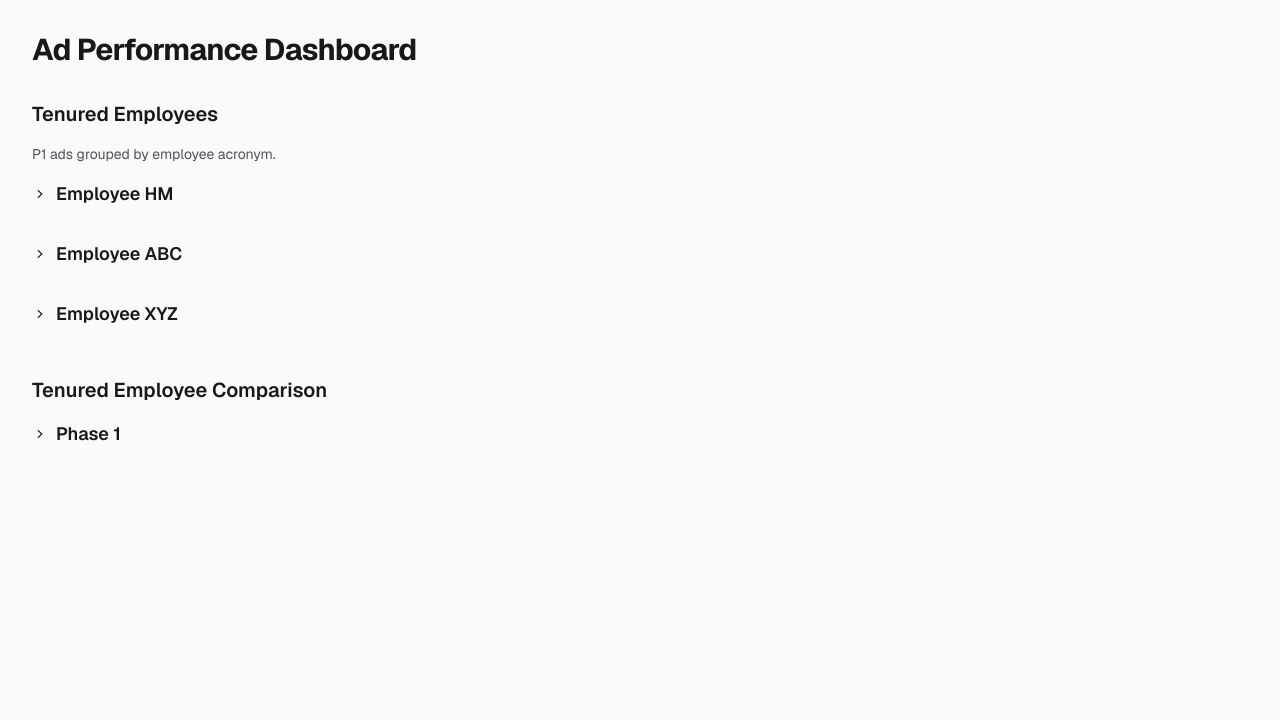
Home page (dashboard) › expands Tenured Employee Comparison table on Phase 1 click
This screenshot has width=1280, height=720.
Step 1. Click the button "Phase 1" → click(88, 434), box x1=32 y1=420 x2=1248 y2=448
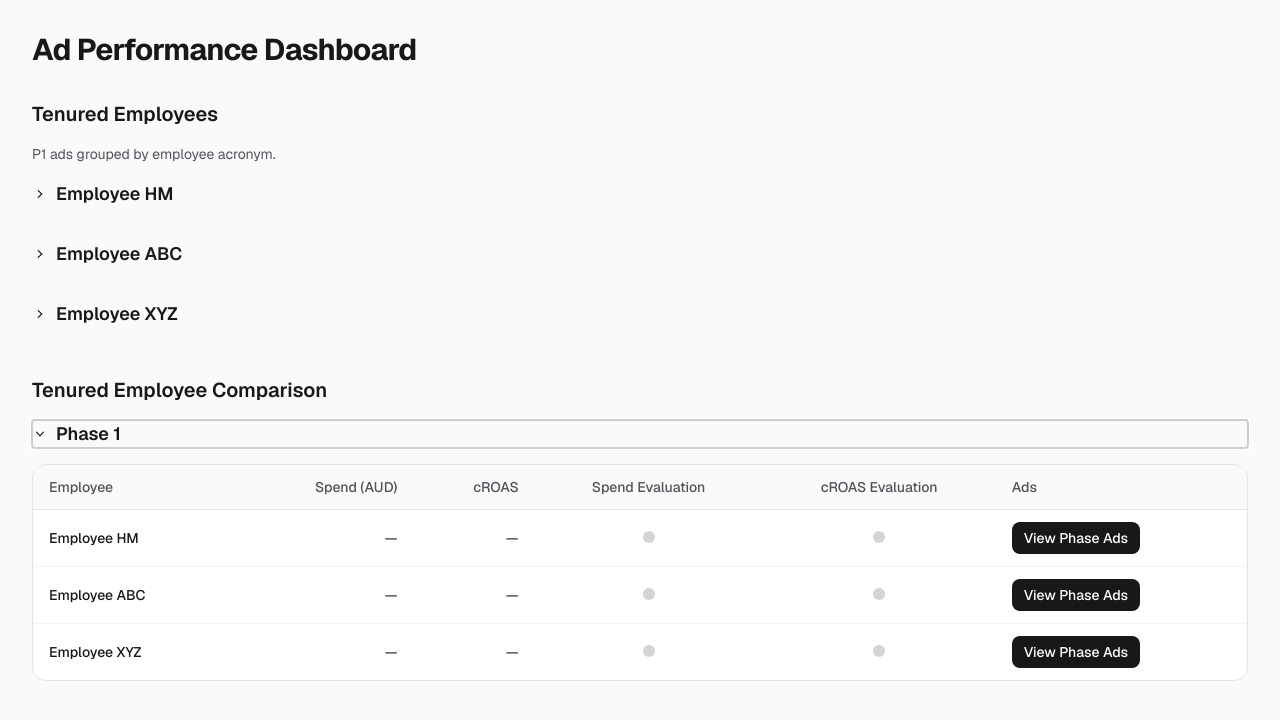
Now the column heading "Employee" is shown, box x1=33 y1=465 x2=234 y2=510
Now the number of links "View Phase Ads" is 3, box x1=1012 y1=522 x2=1140 y2=554; x1=1012 y1=579 x2=1140 y2=611; x1=1012 y1=636 x2=1140 y2=668
